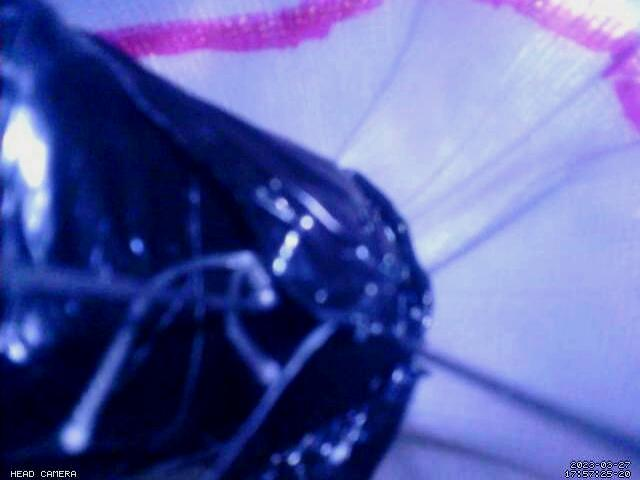red-circle: (94, 0, 640, 135)
